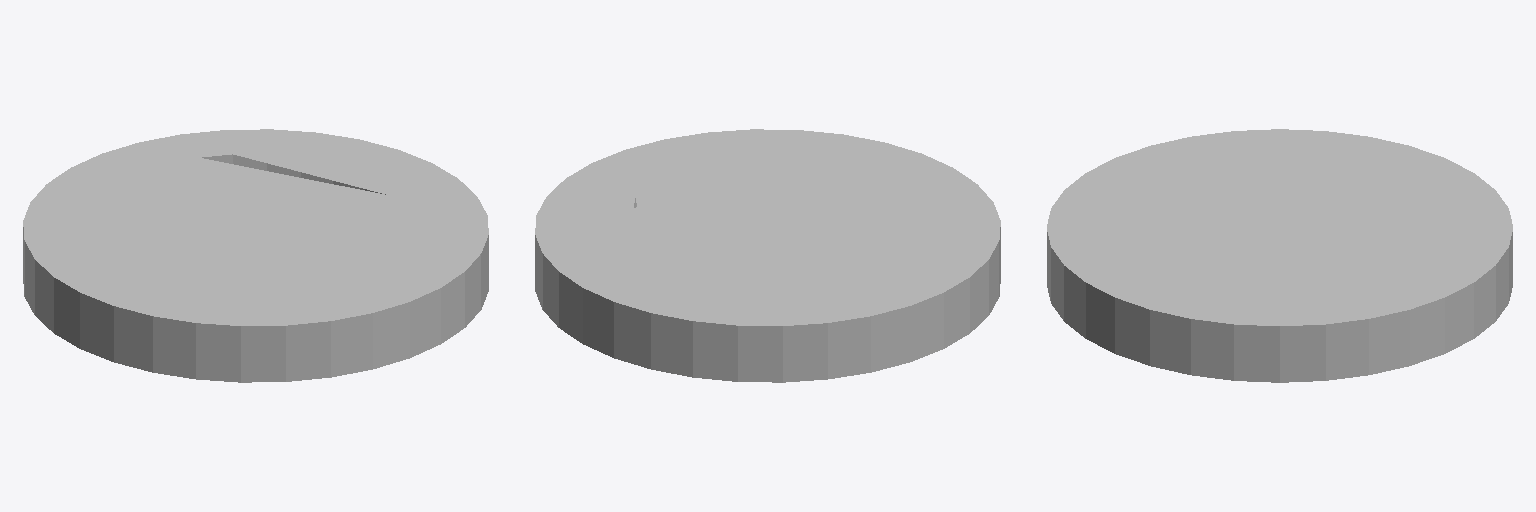
File: Ejercicio5.obj
The picture shows the model from 3 angles: view 1: azimuth 30°, elevation 25°; view 2: azimuth 150°, elevation 25°; view 3: azimuth 270°, elevation 25°; orthographic projection.
Parts seen in each view (by area): view 1: Cylinder; view 2: Cylinder; view 3: Cylinder.
Part boxes in pixels (x1,y1,x2,y2): Cylinder: (23,129,488,382); Cylinder: (535,129,1000,382); Cylinder: (1047,129,1512,382).
Bounding box in the file's own units: 1.2 × 0.16 × 1.2.